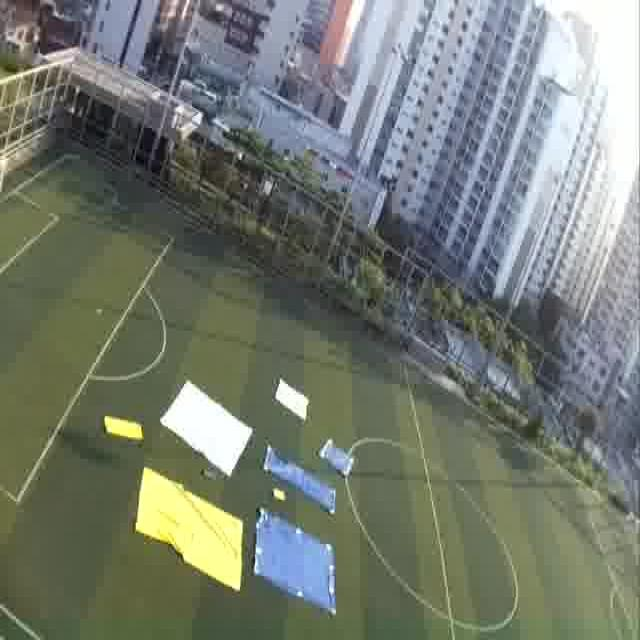danger: (254, 510, 346, 617), (315, 436, 361, 477), (265, 448, 310, 487)
safety: (158, 372, 254, 476), (267, 369, 319, 435)
warning: (130, 464, 197, 570), (102, 408, 146, 448)
